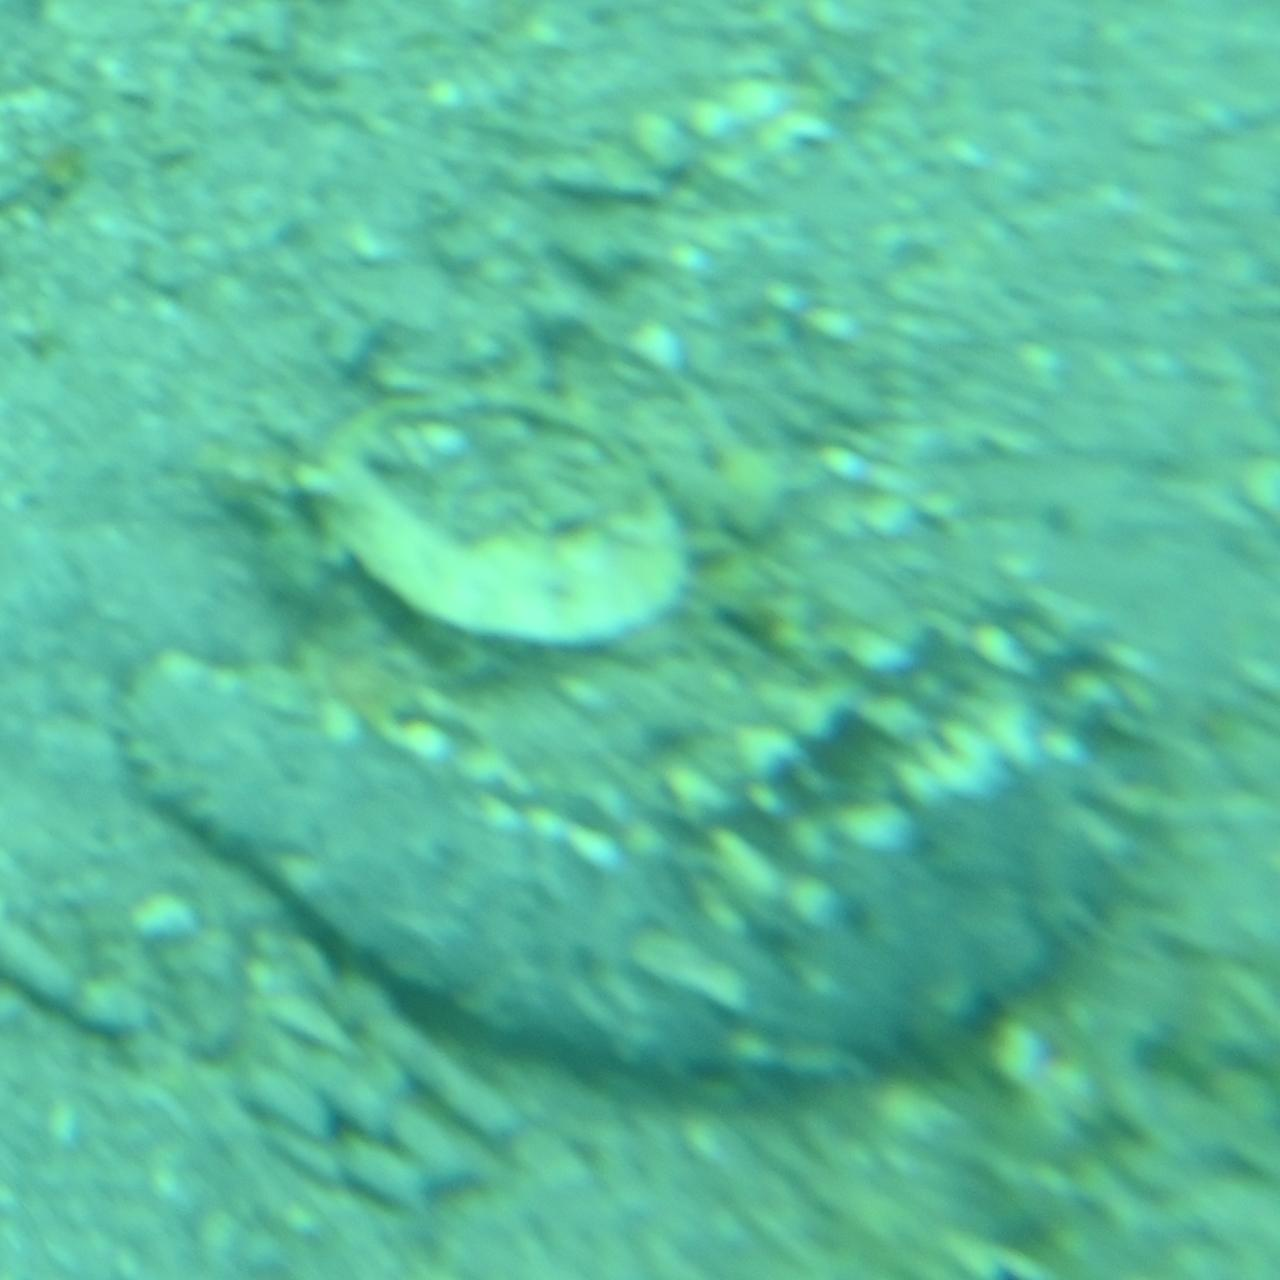Holothuria tubulosa: (108, 572, 1194, 1131)
